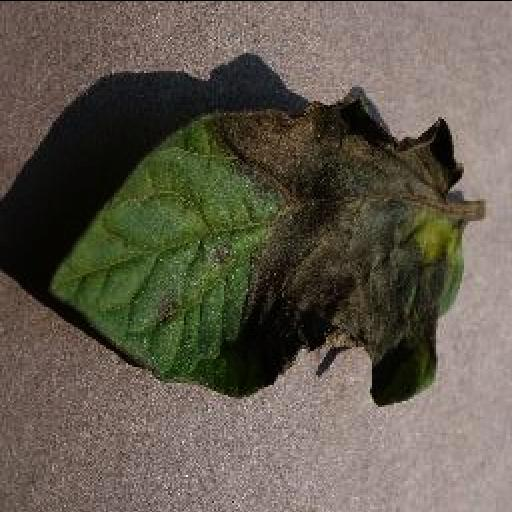disease_tomato: (46, 86, 462, 408)
